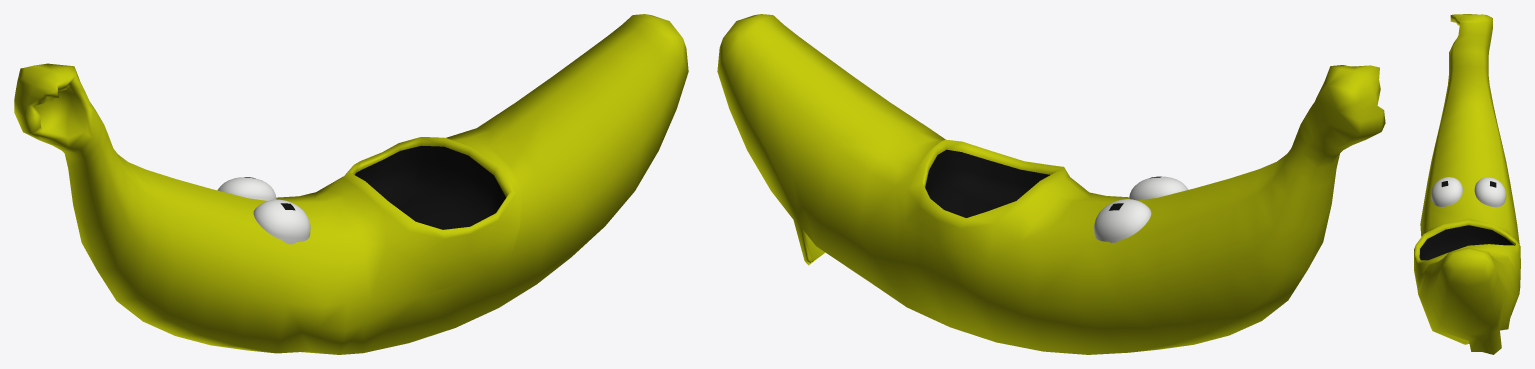
Rendered from BananaDamage2.fbx.
3 views of the same model, side by side, from view 1: azimuth 30°, elevation 25°; view 2: azimuth 150°, elevation 25°; view 3: azimuth 270°, elevation 25° (orthographic). The views are drawn at different scales.
Parts seen in each view (by area): view 1: banana4; view 2: banana4; view 3: banana4.
Part boxes in pixels (x1,y1,x2,y2): banana4: [14, 14, 688, 354]; banana4: [717, 14, 1385, 354]; banana4: [1414, 14, 1520, 354].
Bounding box in the file's own units: 1.77 × 0.8901 × 0.4139.
